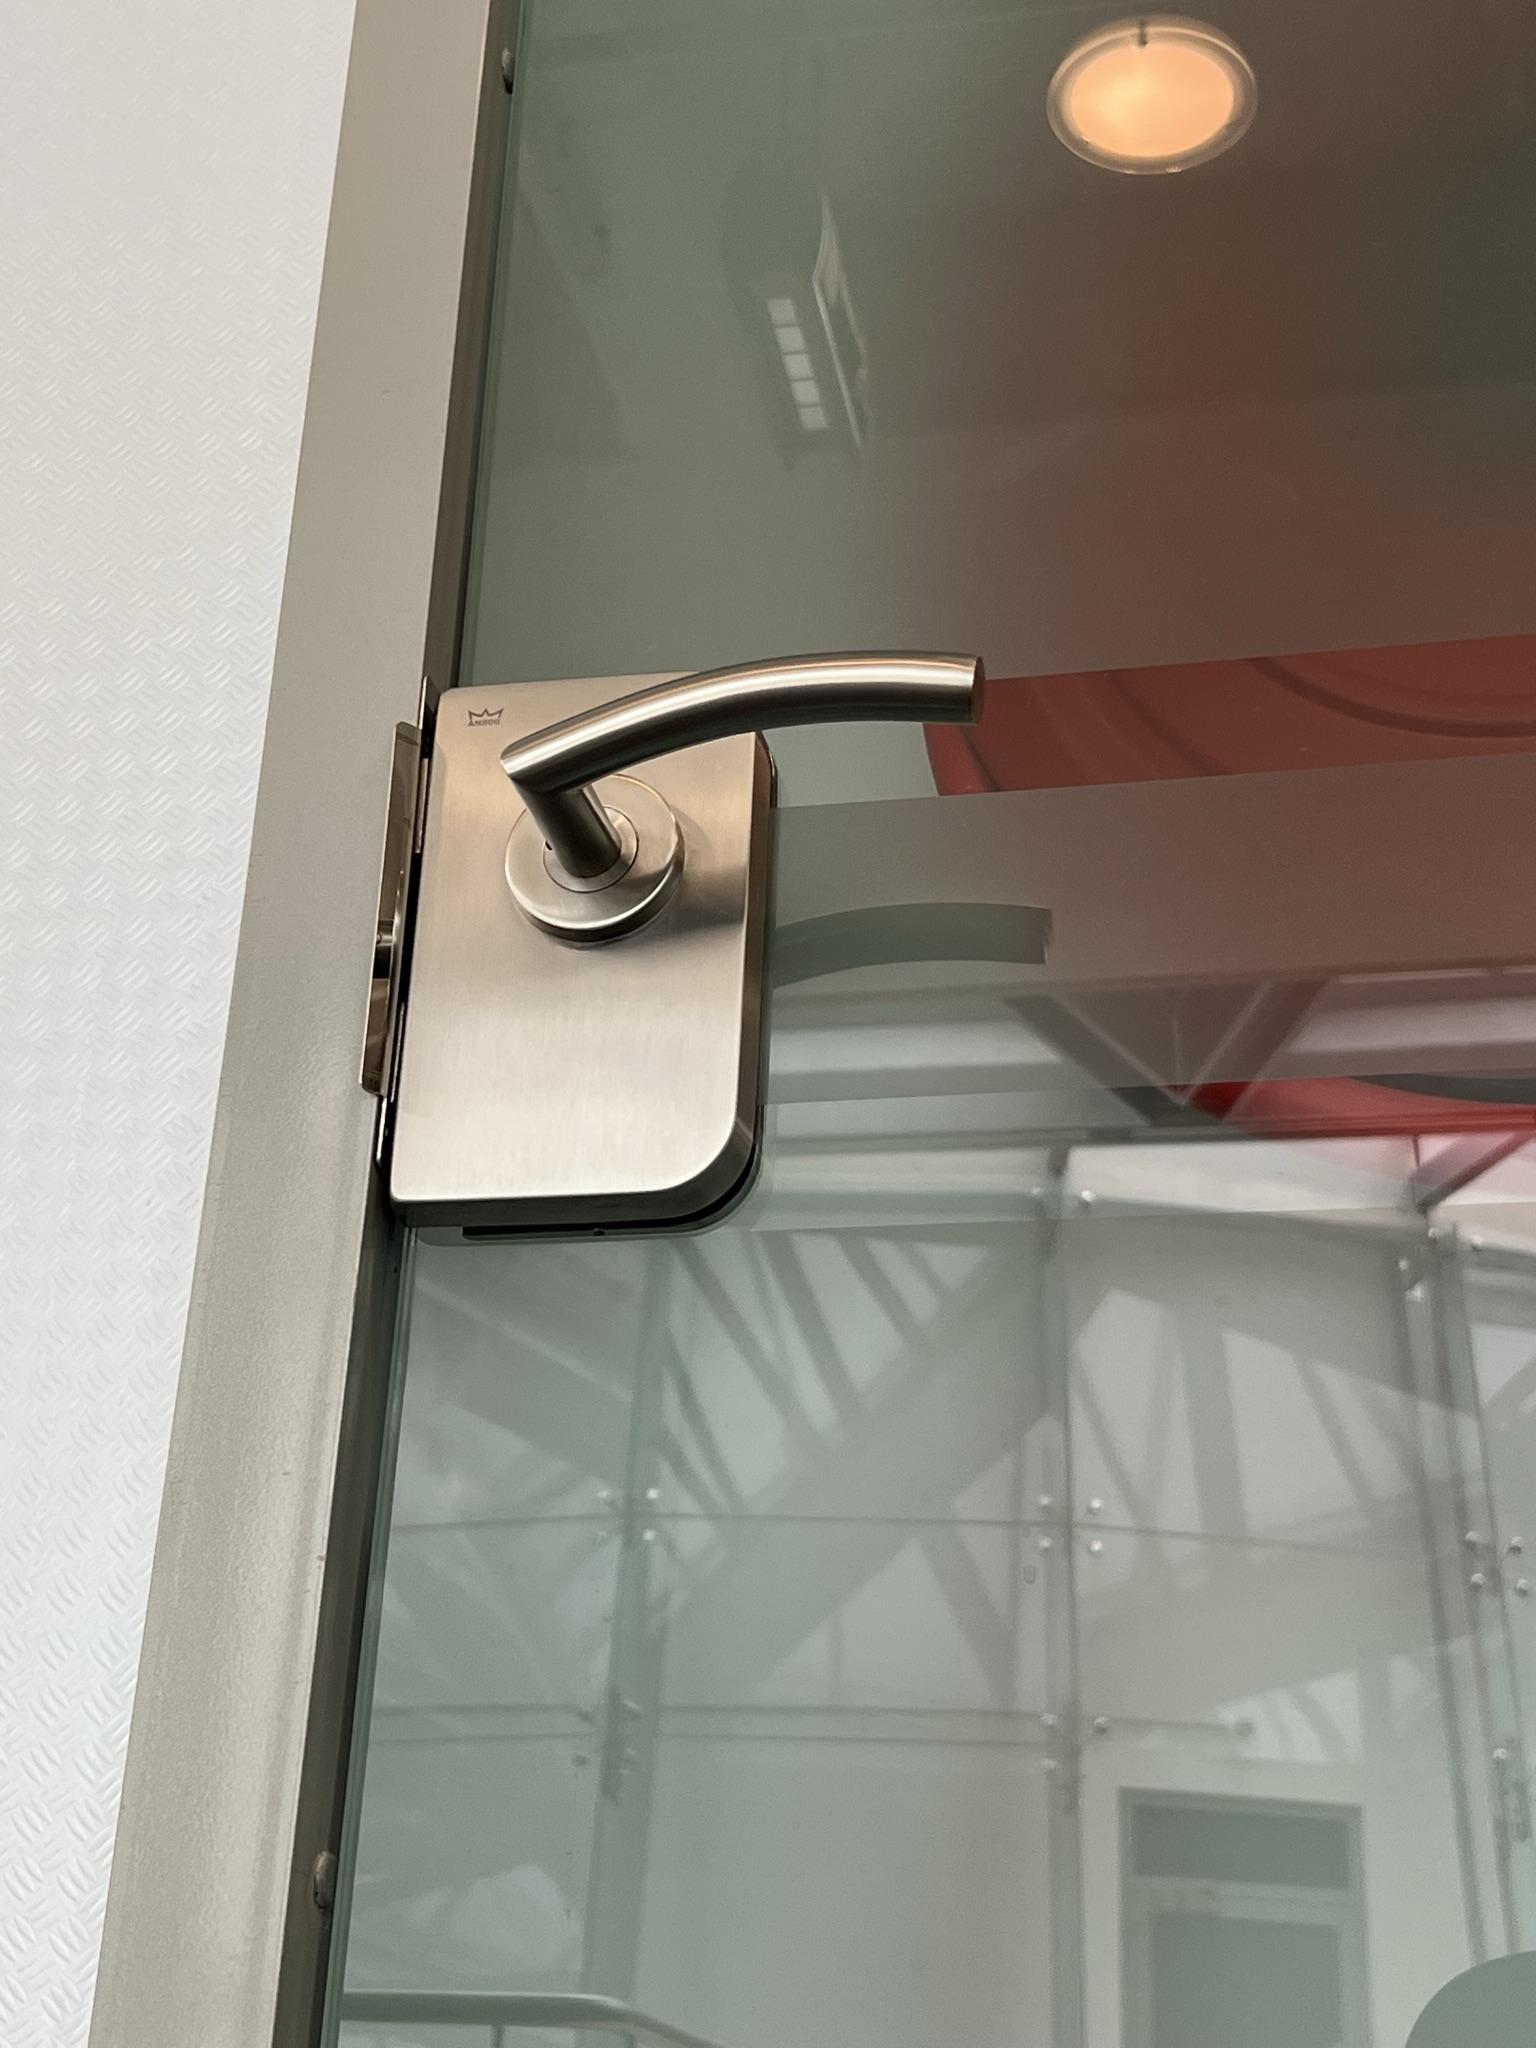door: (237, 21, 1520, 2014)
handle: (355, 611, 1004, 1266)
